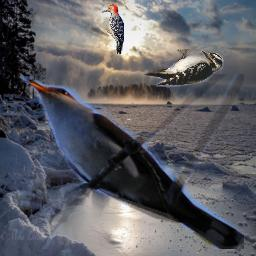Cuckoo: (20, 74, 244, 249)
Woodpecker: (143, 49, 228, 89), (102, 4, 124, 54)
